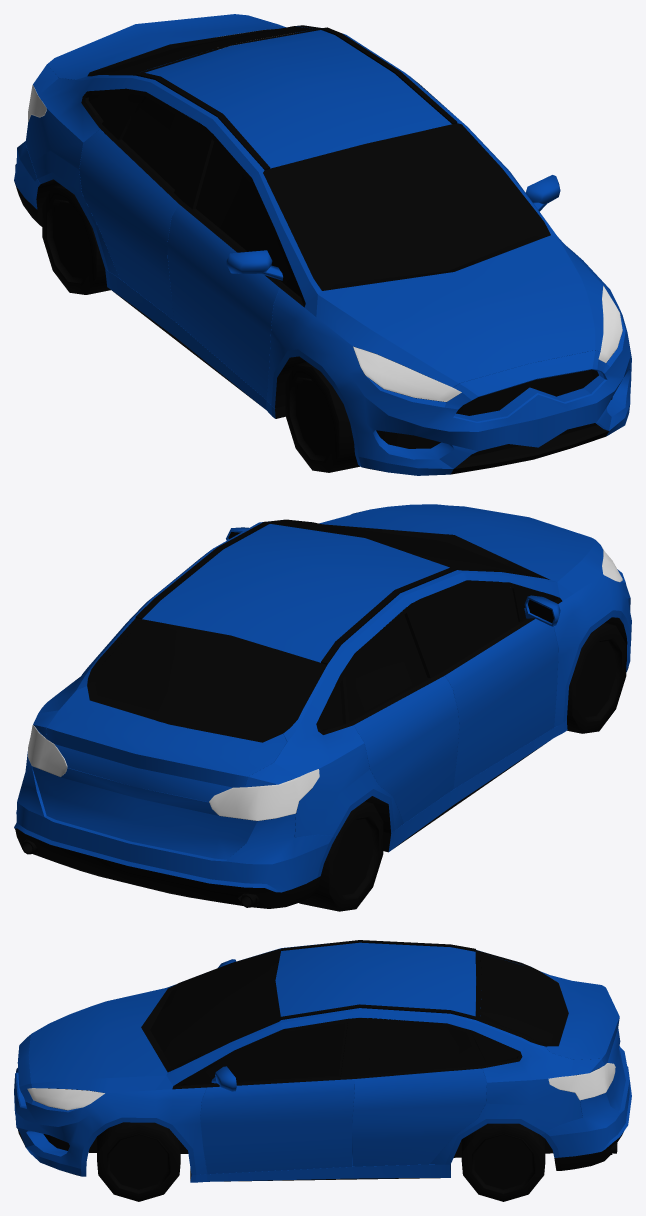
File: FocusLodHukuk.fbx
3 renders of one model, top to bottom at view 1: azimuth 30°, elevation 25°; view 2: azimuth 150°, elevation 25°; view 3: azimuth 270°, elevation 25°, orthographic. The views are drawn at different scales.
Visible parts, largest first — view 1: group3_polySurface15, pCylinder3, pCylinder4; view 2: group3_polySurface15, pCylinder4, pCylinder3; view 3: group3_polySurface15, pCylinder2, pCylinder1.
Part boxes in pixels (x1,y1,x2,y2): group3_polySurface15: (14, 14, 631, 475); pCylinder3: (285, 361, 359, 472); pCylinder4: (42, 185, 110, 294); group3_polySurface15: (14, 504, 631, 908); pCylinder4: (299, 801, 383, 911); pCylinder3: (567, 622, 626, 733); group3_polySurface15: (14, 940, 631, 1182); pCylinder2: (97, 1122, 180, 1201); pCylinder1: (461, 1123, 545, 1201).
Size of the model in its own units: 19.37 by 13.47 by 41.56.
